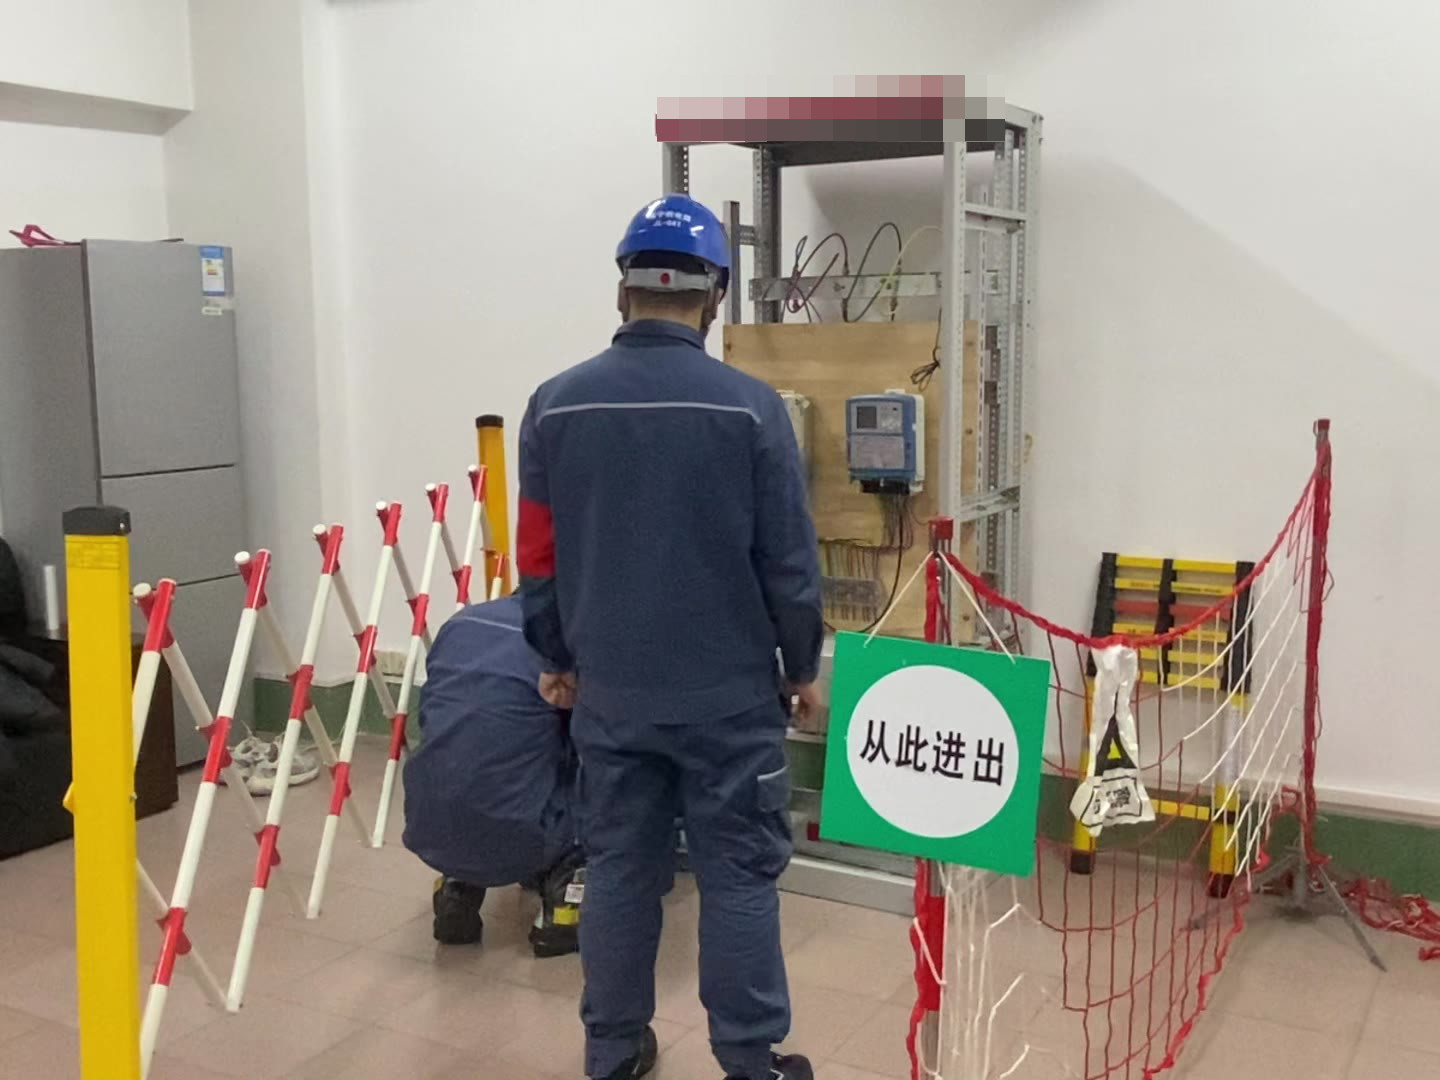badge: (513, 497, 559, 581)
downsuit: (545, 747, 804, 1079)
halt: (611, 192, 739, 331)
hand: (779, 675, 822, 729), (537, 671, 580, 715)
intosign: (813, 629, 1052, 879)
person: (452, 187, 836, 1080)
shoe: (529, 864, 586, 959)
upsuit: (510, 317, 829, 735), (396, 593, 575, 880)
